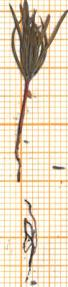flower: (5, 0, 68, 83)
root: (16, 198, 43, 285)
stem: (9, 81, 33, 183)
